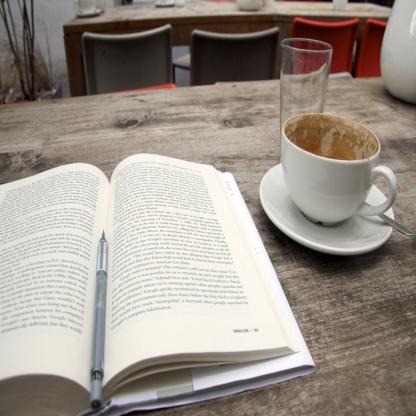book: (0, 151, 315, 415)
